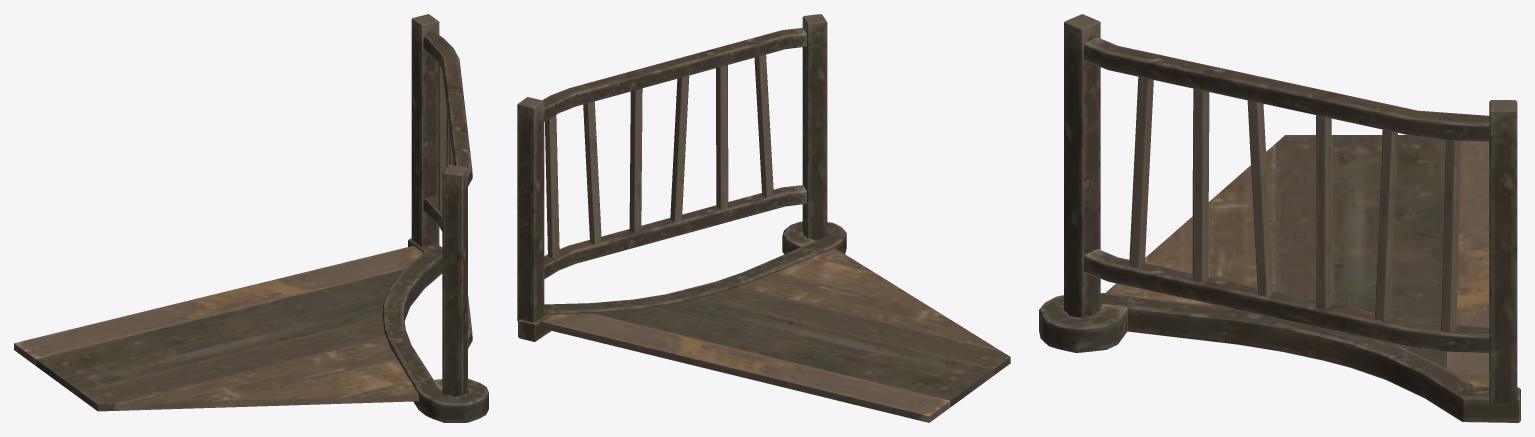
The model's file is stairs.spiral.landing.frontier.glb.
The picture shows the model from 3 angles, left to right: view 1: azimuth 30°, elevation 25°; view 2: azimuth 150°, elevation 25°; view 3: azimuth 270°, elevation 25°; orthographic projection. The views are drawn at different scales.
Visible parts, largest first — view 1: stairs.spiral.landing_LOD0; view 2: stairs.spiral.landing_LOD0; view 3: stairs.spiral.landing_LOD0.
Part boxes in pixels (bbox=[...]): stairs.spiral.landing_LOD0: bbox=[14, 14, 488, 422]; stairs.spiral.landing_LOD0: bbox=[517, 14, 1010, 422]; stairs.spiral.landing_LOD0: bbox=[1039, 14, 1520, 422].
Bounding box in the file's own units: 2.26 × 1.24 × 1.72.
Materials: 1 (1 with a texture image).
